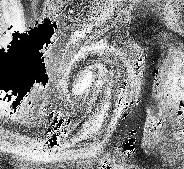CE: (60, 41, 131, 114)
